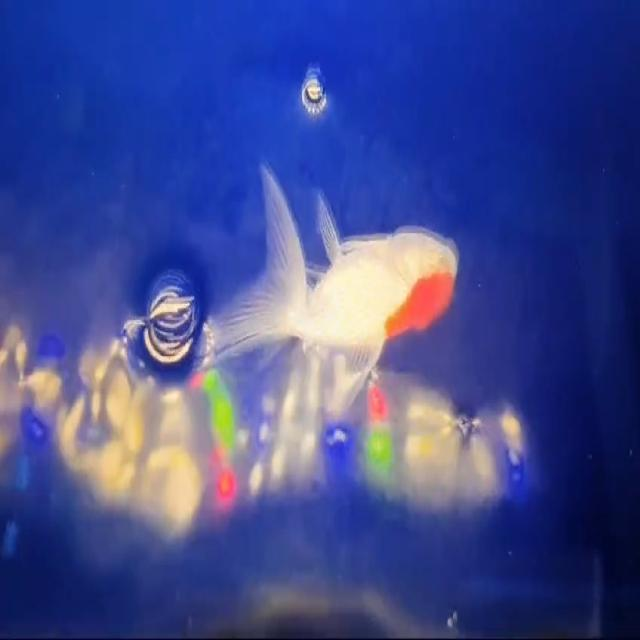fish: (200, 158, 465, 406)
